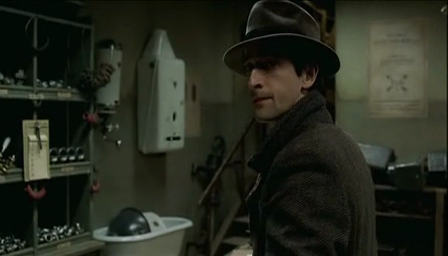face: (246, 52, 293, 119)
mcu: (1, 1, 448, 256)
person: (221, 1, 378, 256)
